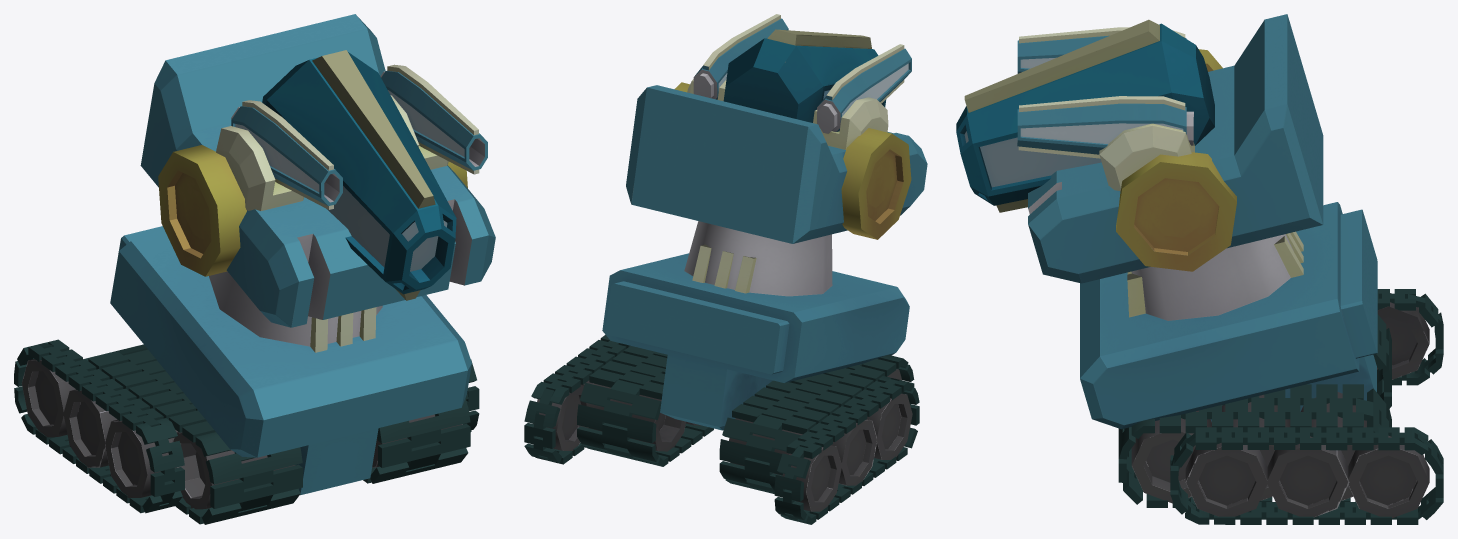
Rendered from player_move_2_upgrade0.obj.
The picture shows the model from 3 angles, left to right: view 1: azimuth 30°, elevation 25°; view 2: azimuth 150°, elevation 25°; view 3: azimuth 270°, elevation 25°; orthographic projection. The views are drawn at different scales.
Visible parts, largest first — view 1: Object004, Box038, Object012, Box043, Object013, Box042, Object011, Box044; view 2: Object004, Box038, Box042, Box043, Object012, Object013, Box044, Object011, Object014; view 3: Object004, Object014, Box044, Object012, Box042, Object011, Object013, Box043, Box038.
Part boxes in pixels (box(x1,y1,x2,y2)): Object004: box(110, 14, 495, 495); Box038: box(83, 344, 302, 524); Object012: box(231, 64, 487, 209); Box043: box(14, 339, 184, 513); Object013: box(21, 359, 177, 497); Box042: box(363, 398, 470, 483); Object011: box(171, 414, 462, 509); Box044: box(463, 359, 479, 431); Object004: box(602, 29, 927, 430); Box038: box(719, 354, 914, 493); Box042: box(577, 346, 713, 466); Box043: box(774, 376, 919, 524); Object012: box(693, 14, 911, 133); Object013: box(782, 393, 912, 511); Box044: box(524, 335, 630, 464); Object011: box(586, 369, 901, 475); Object014: box(533, 380, 592, 450); Object004: box(956, 14, 1377, 429); Object014: box(1185, 435, 1429, 518); Box044: box(1170, 427, 1443, 524); Object012: box(1017, 27, 1193, 158); Box042: box(1118, 384, 1391, 507); Object011: box(1131, 392, 1366, 503); Object013: box(1377, 293, 1429, 379); Box043: box(1377, 289, 1443, 385); Box038: box(1373, 314, 1391, 408).
Size of the model in its own units: 139 by 180 by 187.
Materials: 4 (2 with a texture image).
